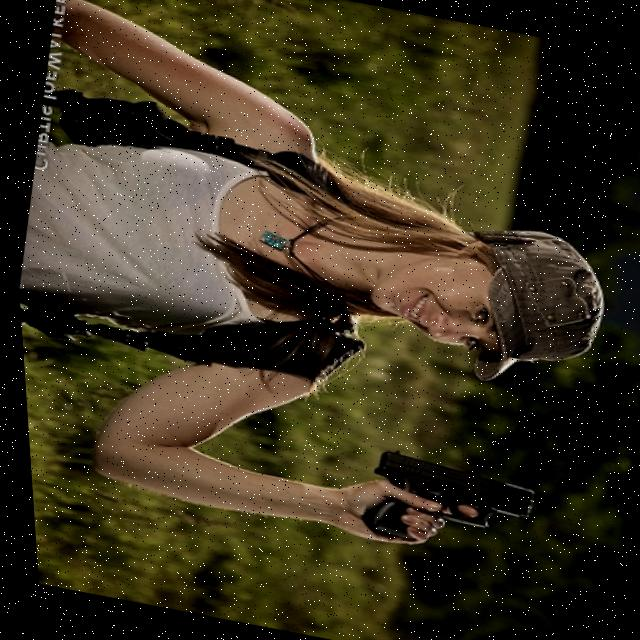pistol: (357, 446, 532, 536)
